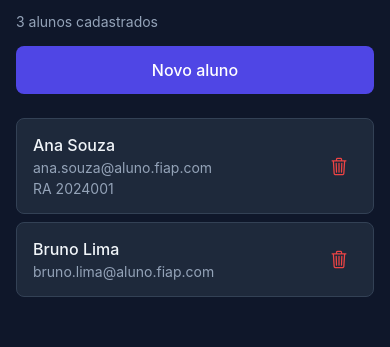
Test case: exclusão › mostra a mensagem do backend se a exclusão falhar
Click the button named "Excluir Ana Souza" at (339, 166), box [321,146,357,186]
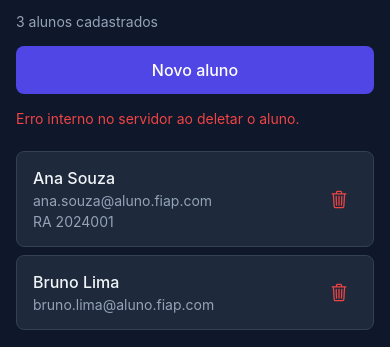
Now the text "Erro interno no servidor ao deletar o aluno." is shown, box [16,110,300,127]
